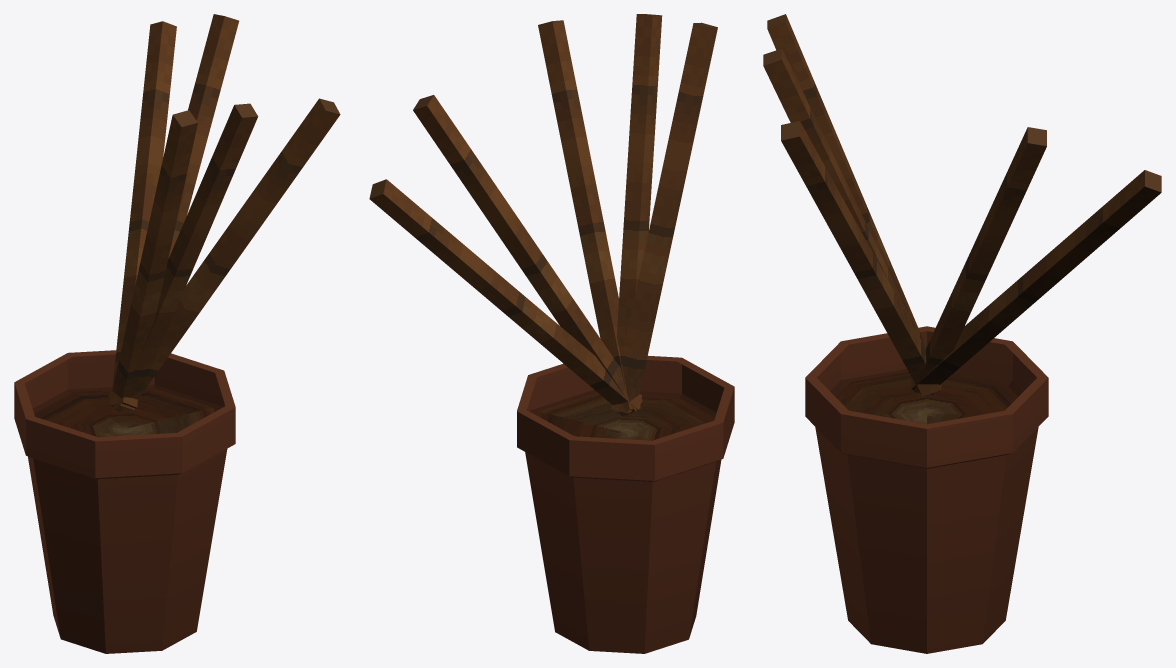
File: prop_plant-2.glb
3 renders of one model, left to right at view 1: azimuth 30°, elevation 25°; view 2: azimuth 150°, elevation 25°; view 3: azimuth 270°, elevation 25°, orthographic. The views are drawn at different scales.
Parts seen in each view (by area): view 1: prop_plant-2; view 2: prop_plant-2; view 3: prop_plant-2.
Part boxes in pixels (<box>): prop_plant-2: <box>14,14,340,653</box>; prop_plant-2: <box>369,14,734,653</box>; prop_plant-2: <box>763,14,1161,653</box>.
Size of the model in its own units: 0.2387 by 0.4918 by 0.2972.
Materials: 3 (3 with a texture image).
